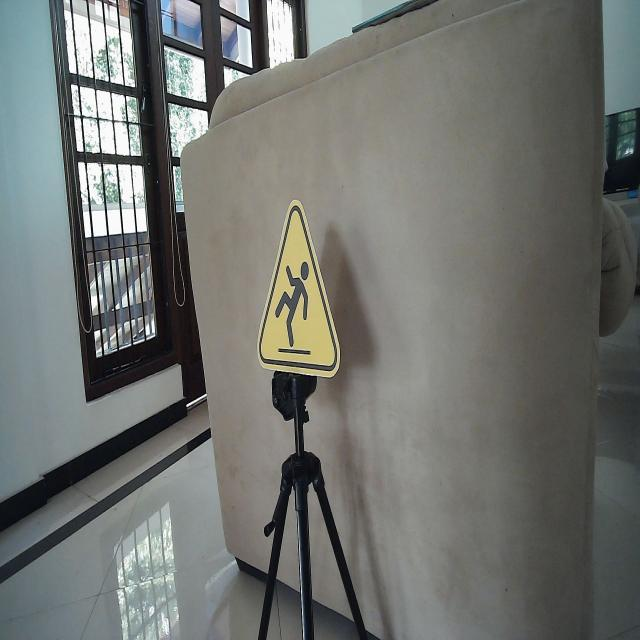slippery_sign: (255, 196, 343, 380)
